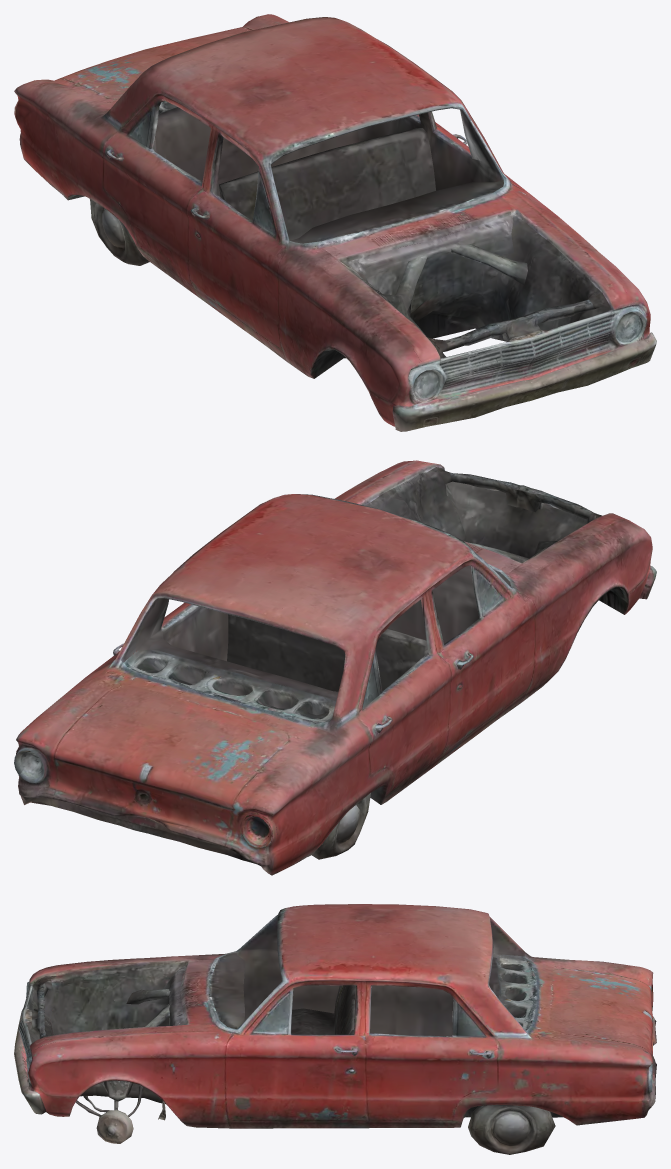
Rendered from ferrugem.gltf.
3 renders of one model, top to bottom at view 1: azimuth 30°, elevation 25°; view 2: azimuth 150°, elevation 25°; view 3: azimuth 270°, elevation 25°, orthographic. The views are drawn at different scales.
Visible parts, largest first — view 1: ferrugem; view 2: ferrugem; view 3: ferrugem.
Part boxes in pixels (x1=…): ferrugem: x1=14, y1=14, x2=656, y2=431; ferrugem: x1=14, y1=460, x2=656, y2=875; ferrugem: x1=14, y1=904, x2=656, y2=1154.
Size of the model in its own units: 1.84 by 1.4 by 4.65.
1 material, 1 textured.
